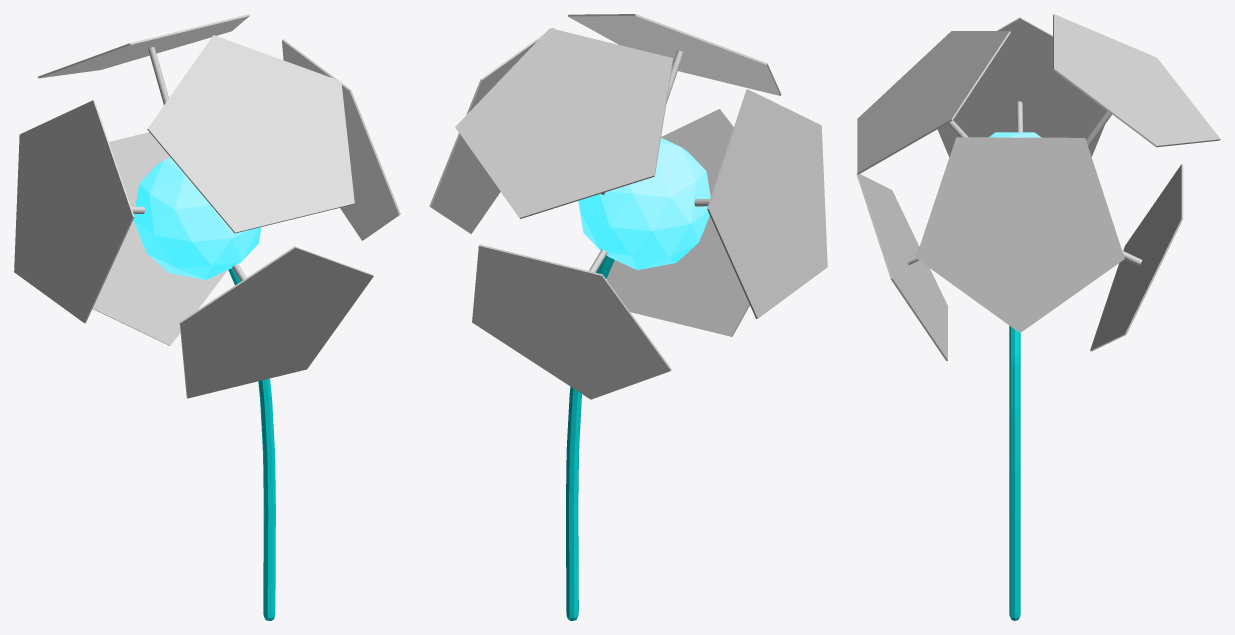
The model's file is flower3.1.fbx.
3 views of the same model, side by side, from view 1: azimuth 30°, elevation 25°; view 2: azimuth 150°, elevation 25°; view 3: azimuth 270°, elevation 25° (orthographic). The views are drawn at different scales.
Parts seen in each view (by area): view 1: Circle.005, Circle.004, Circle.002, Circle, Icosphere, Circle.003, Circle.001, Plane; view 2: Circle.001, Circle.004, Circle, Circle.002, Icosphere, Circle.005, Circle.003, Plane; view 3: Circle.003, Circle.001, Circle.004, Circle.005, Circle, Circle.002, Plane.
Part boxes in pixels (bbox=[...]): Circle.005: bbox=[147, 35, 354, 233]; Circle.004: bbox=[14, 100, 144, 323]; Circle.002: bbox=[179, 246, 373, 398]; Circle: bbox=[92, 132, 227, 345]; Icosphere: bbox=[133, 157, 261, 279]; Circle.003: bbox=[282, 39, 400, 240]; Circle.001: bbox=[38, 14, 249, 104]; Plane: bbox=[228, 268, 275, 620]; Circle.001: bbox=[455, 28, 673, 218]; Circle.004: bbox=[694, 89, 827, 318]; Circle: bbox=[472, 244, 671, 399]; Circle.002: bbox=[607, 109, 749, 336]; Icosphere: bbox=[578, 137, 710, 270]; Circle.005: bbox=[568, 14, 781, 103]; Circle.003: bbox=[429, 27, 554, 233]; Plane: bbox=[566, 255, 614, 620]; Circle.003: bbox=[916, 137, 1124, 332]; Circle.001: bbox=[1053, 14, 1220, 147]; Circle.004: bbox=[937, 17, 1106, 157]; Circle.005: bbox=[857, 31, 1010, 174]; Circle: bbox=[1090, 164, 1183, 351]; Circle.002: bbox=[856, 173, 947, 361]; Plane: bbox=[1009, 325, 1020, 620].
Size of the model in its own units: 190 by 346 by 203.
